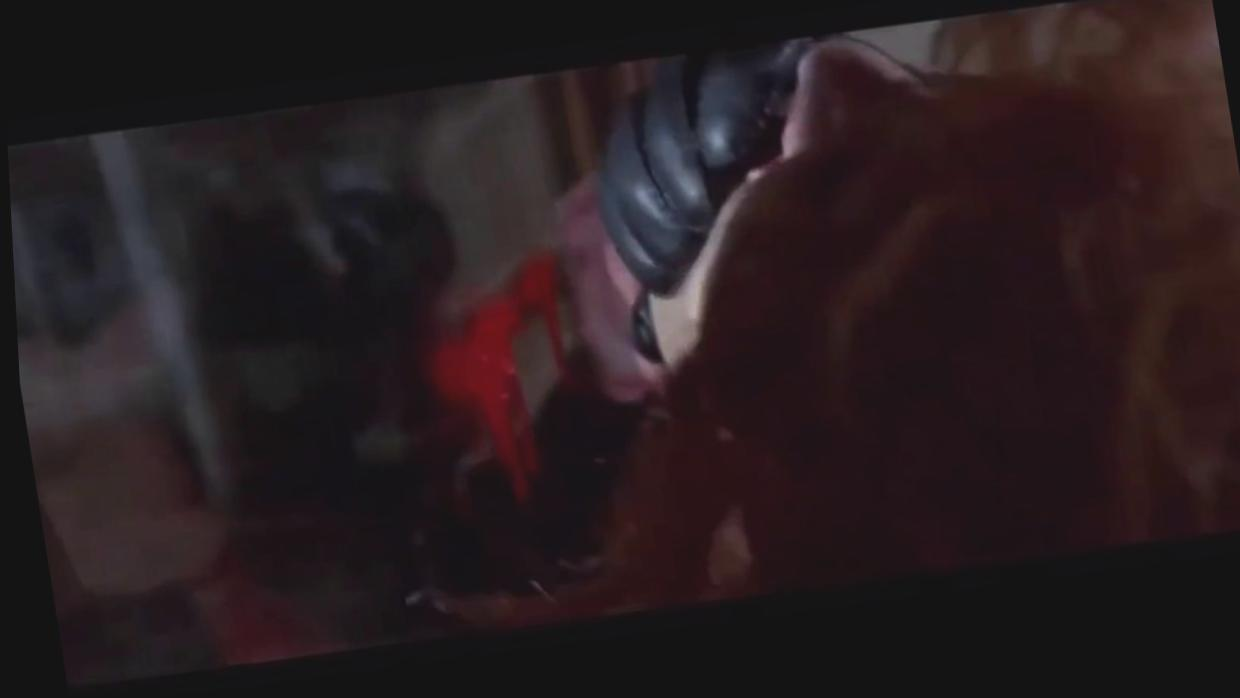Fire: (428, 254, 559, 506)
